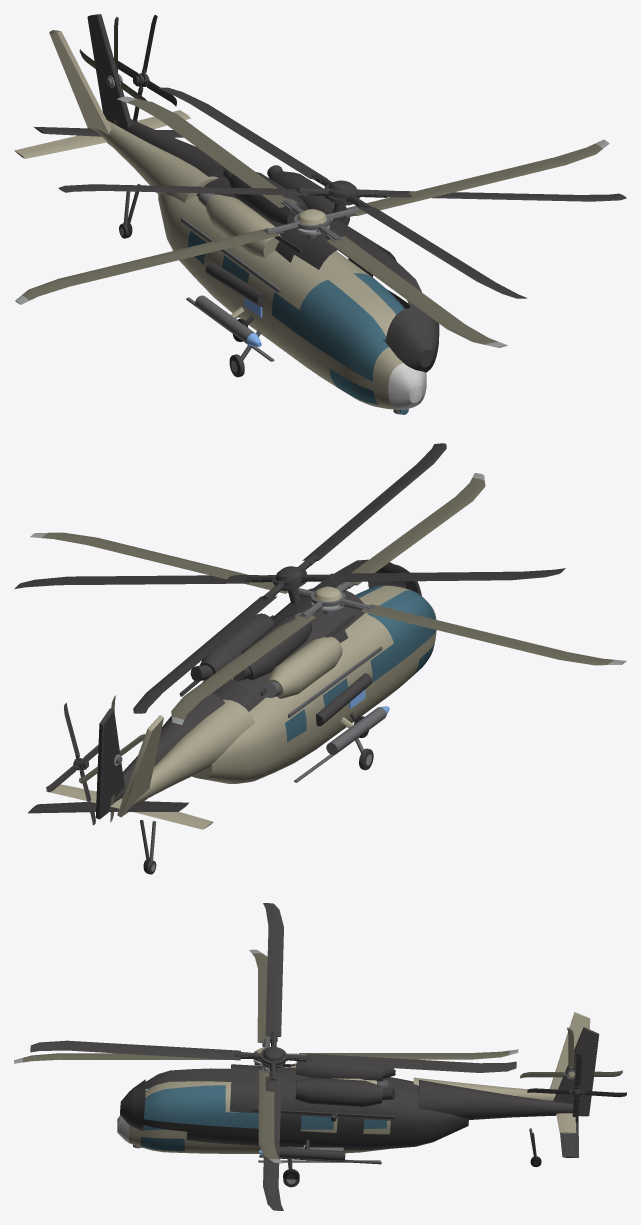
File: navalHelicopter__sh_60j.glb
3 views of the same model, one above another, from view 1: azimuth 30°, elevation 25°; view 2: azimuth 150°, elevation 25°; view 3: azimuth 270°, elevation 25° (orthographic). The views are drawn at different scales.
Parts seen in each view (by area): view 1: Fuselage_Mesh, Wreck, Rotor_Main_Mesh, Engines_Mesh, Naval_Mission_Kit_Mesh, Landing_Gear_Mesh, Rotor_Tail_Mesh; view 2: Wreck, Fuselage_Mesh, Rotor_Main_Mesh, Engines_Mesh, Naval_Mission_Kit_Mesh, Landing_Gear_Mesh; view 3: Wreck, Fuselage_Mesh, Rotor_Main_Mesh, Rotor_Tail_Mesh.
Part boxes in pixels (x1,y1,x2,y2): Fuselage_Mesh: [14, 30, 426, 414]; Wreck: [33, 14, 626, 372]; Rotor_Main_Mesh: [15, 96, 609, 347]; Engines_Mesh: [198, 193, 280, 257]; Naval_Mission_Kit_Mesh: [195, 295, 261, 346]; Landing_Gear_Mesh: [119, 191, 261, 377]; Rotor_Tail_Mesh: [79, 17, 146, 125]; Wreck: [14, 443, 565, 872]; Fuselage_Mesh: [46, 585, 436, 829]; Rotor_Main_Mesh: [30, 473, 626, 725]; Engines_Mesh: [230, 636, 342, 698]; Naval_Mission_Kit_Mesh: [326, 706, 389, 754]; Landing_Gear_Mesh: [145, 722, 373, 874]; Wreck: [30, 903, 626, 1210]; Fuselage_Mesh: [117, 1012, 590, 1162]; Rotor_Main_Mesh: [14, 949, 518, 1163]; Rotor_Tail_Mesh: [520, 1027, 622, 1079].
Size of what is drawn, in the model's own units: 16.84 by 6.32 by 19.93.
